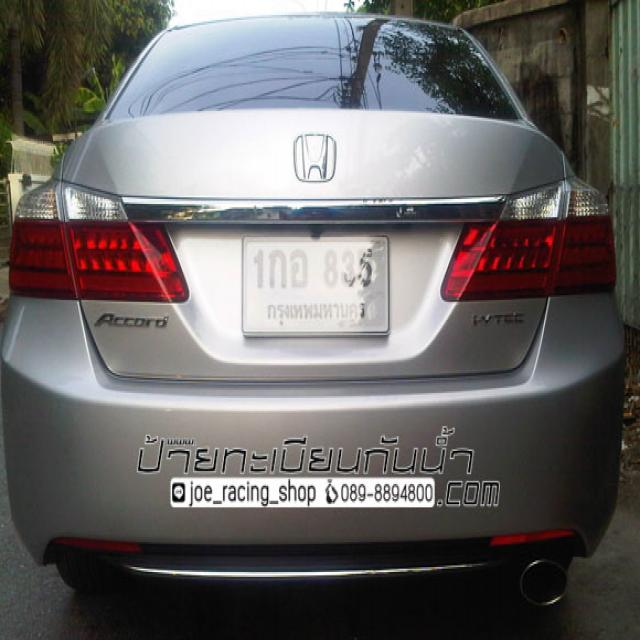license_plate: (237, 229, 393, 344)
